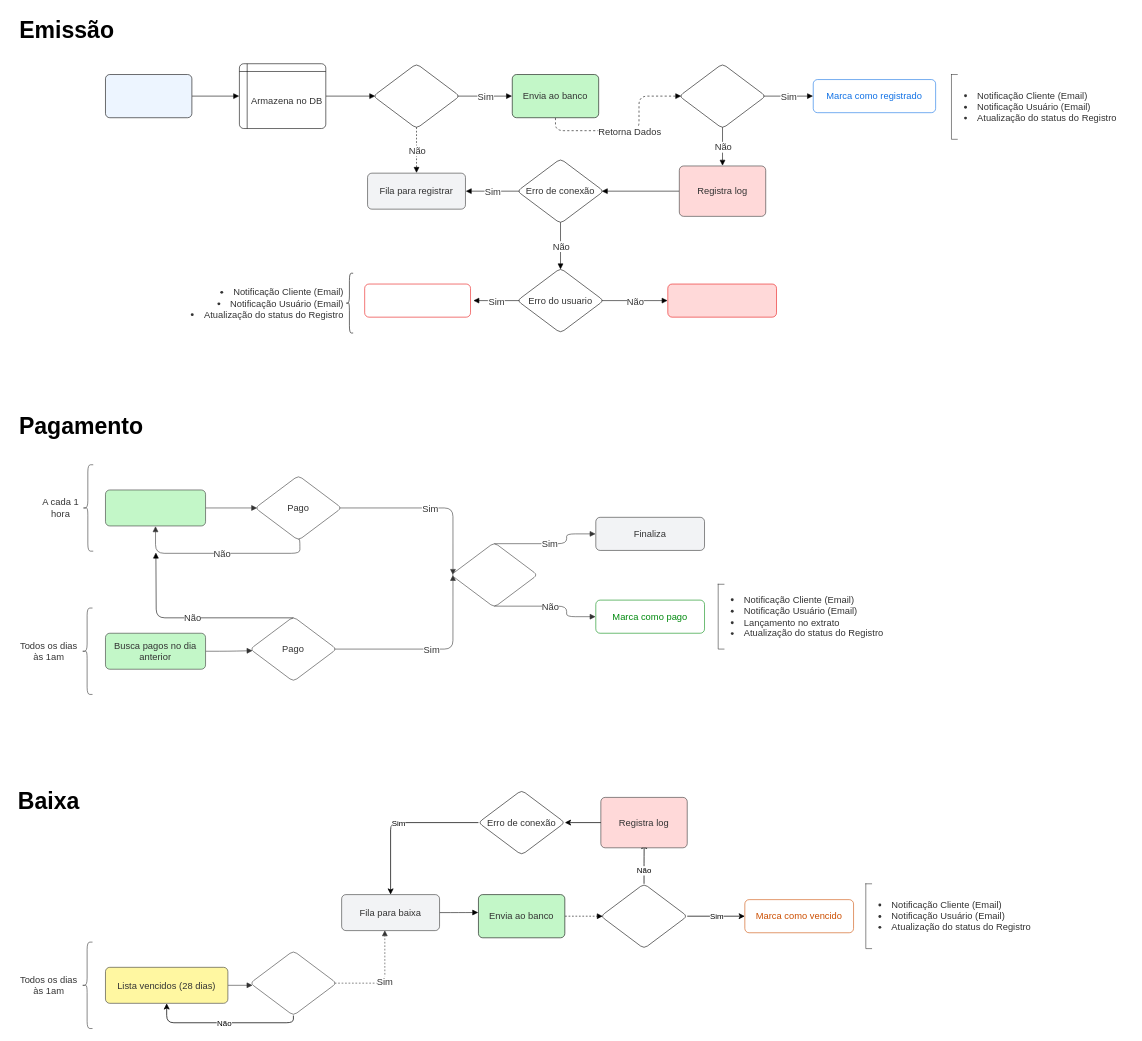
Image size: 1142x1041. Some labels were removed from this diagram. Each missing label, with the box of its shape:
Baixado: (600, 883, 687, 949)
Busca pagos no dia atual: (105, 489, 205, 526)
Já pago: (450, 542, 537, 607)
Marca como erro: (364, 283, 470, 317)
Notifica DEV: (667, 283, 776, 317)
Registrado: (679, 63, 766, 128)
Unico Registro: (373, 63, 460, 128)
Usuário gera boleto: (105, 74, 192, 118)
Vencido: (250, 950, 337, 1015)
